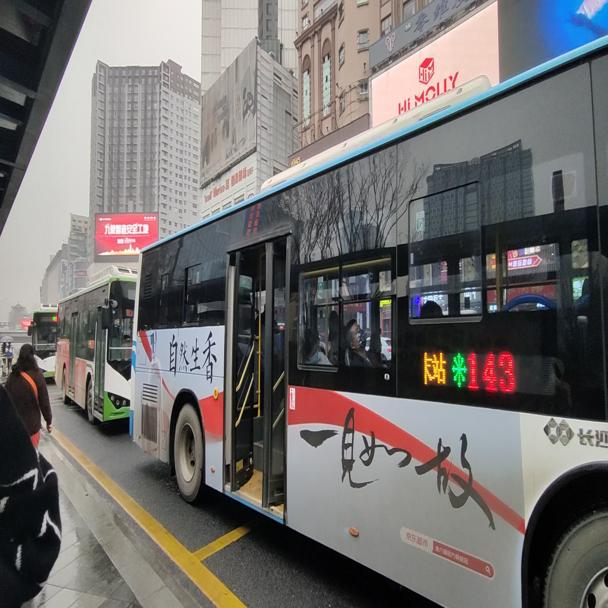bus: (128, 42, 607, 605), (53, 268, 135, 425), (27, 297, 54, 381)
screen: (467, 347, 513, 392)
